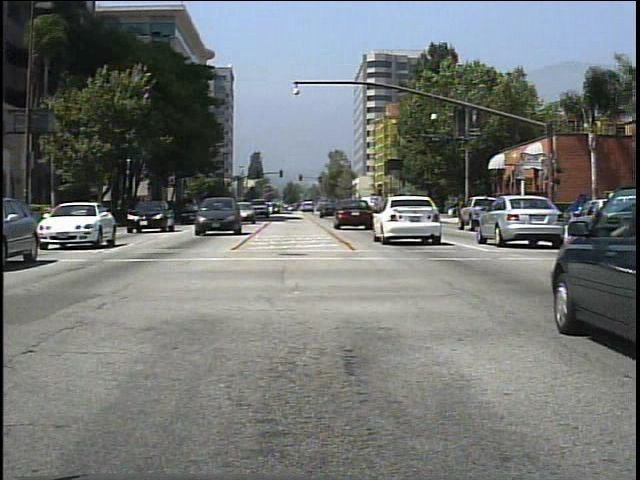person: (529, 194, 548, 228), (492, 189, 510, 224)
